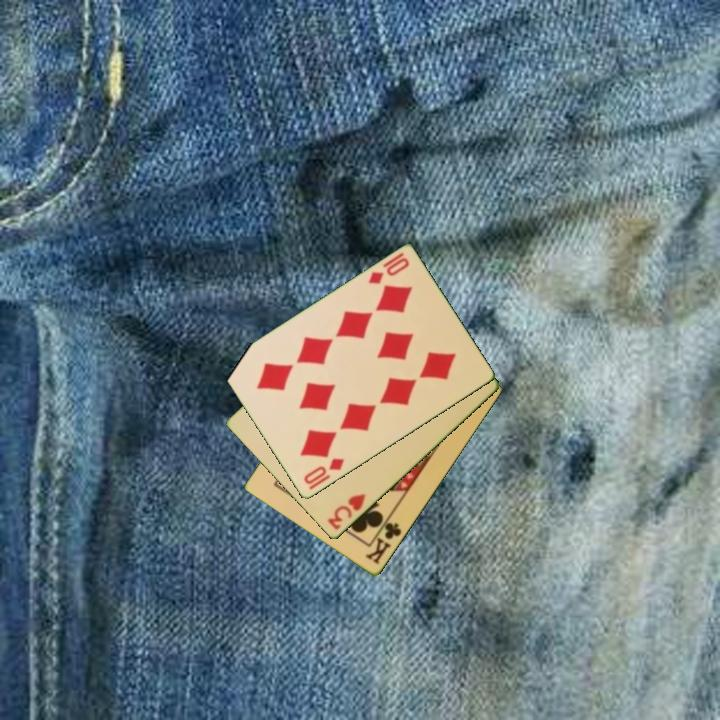10d: (365, 249, 412, 288), (300, 455, 347, 488)
3h: (324, 490, 368, 533)
Kc: (362, 513, 405, 568)
